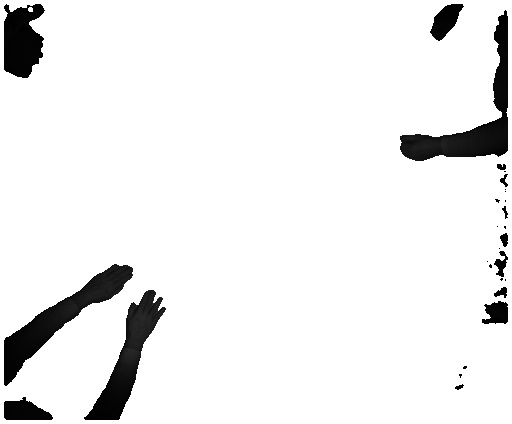fist: (400, 128, 438, 167), (424, 10, 459, 47)
hand: (125, 290, 167, 348), (81, 264, 135, 303)
